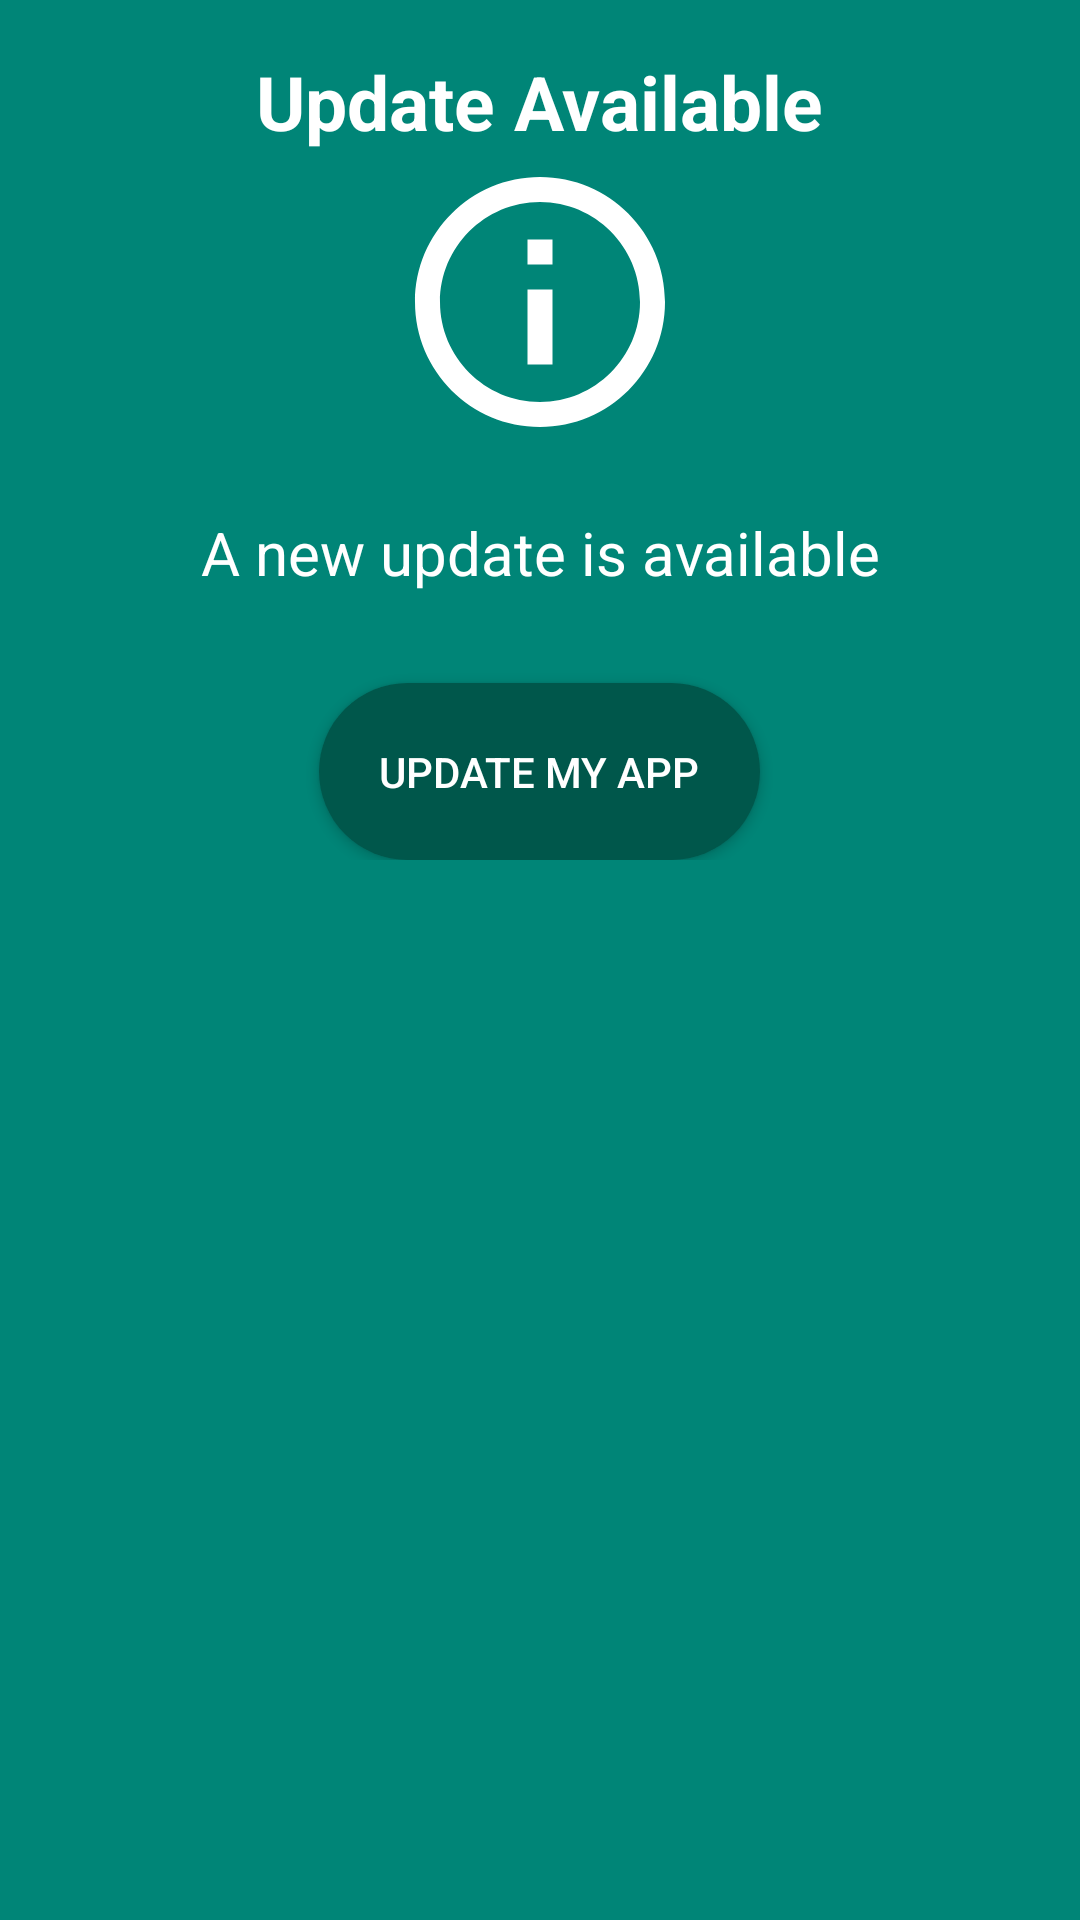

Point at icon controls on the screen. Image size 1080 x 1920, points as (x=x, y=y).
playstore info: (x=540, y=302)
